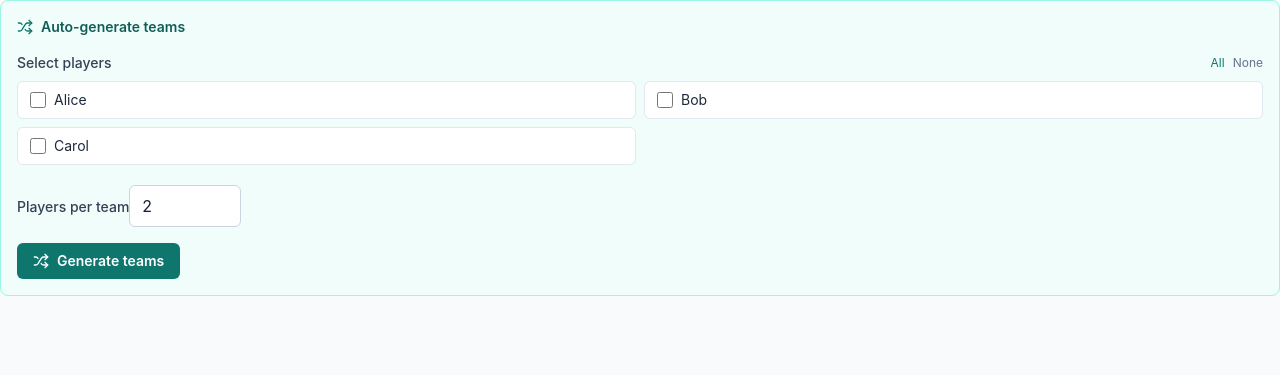
Test: GenerateTeamsWizard › shows validation error when no player is selected
This screenshot has width=1280, height=375.
What coordinates should you click on to do the following:
click the button "Generate teams"
I would click on:
 (99, 261)
Its box is x1=17 y1=243 x2=180 y2=279.
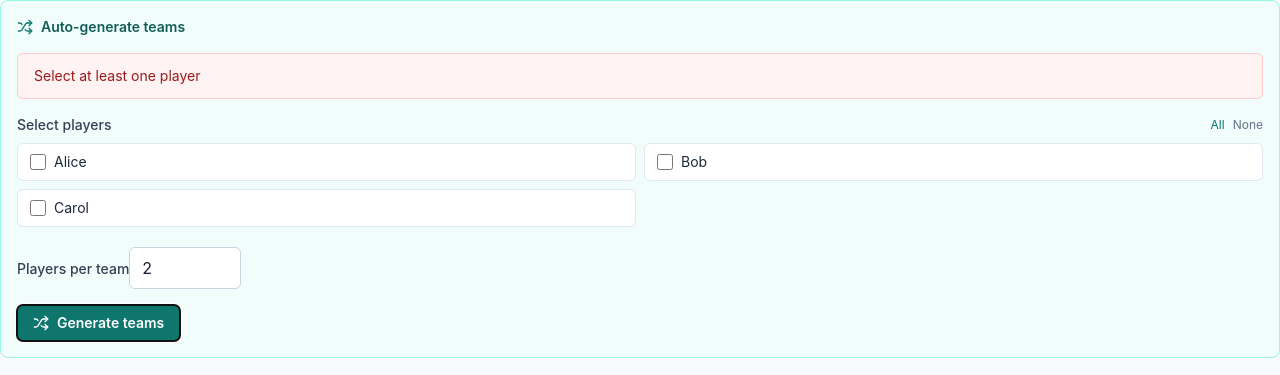
Expected: the message reads "Select at least one player", x1=34 y1=67 x2=200 y2=84
